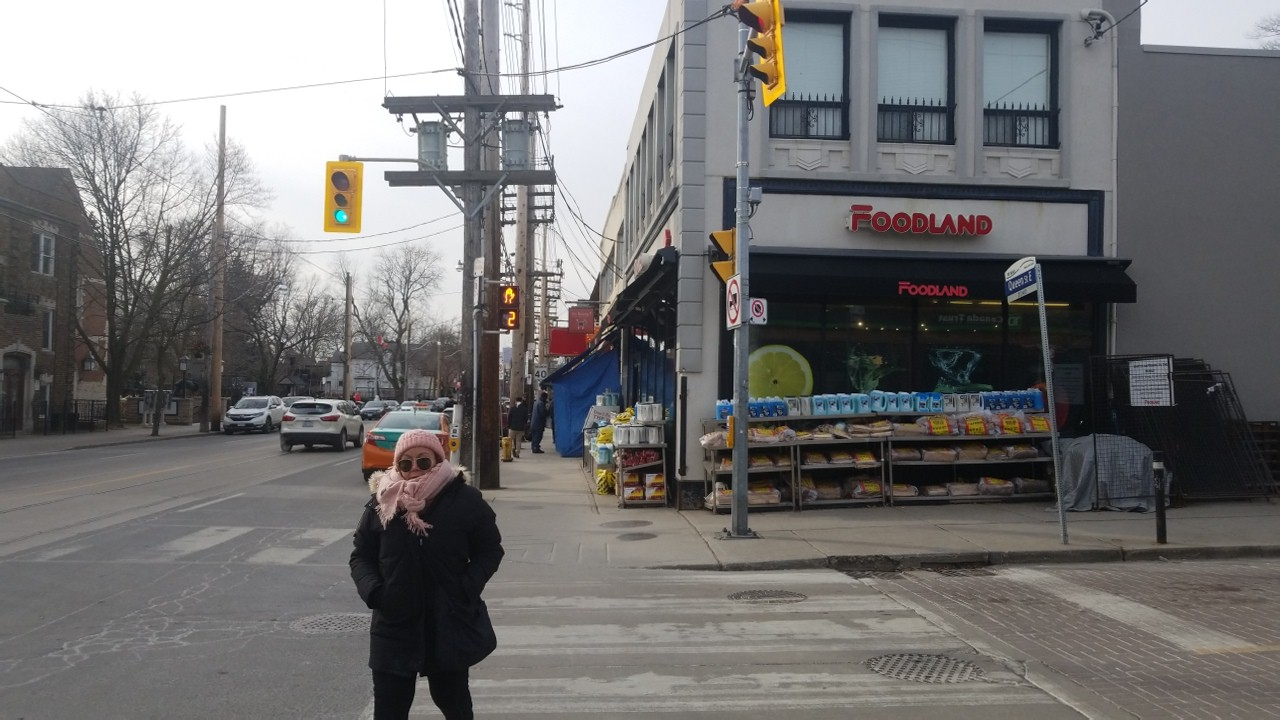light: (497, 283, 520, 331)
